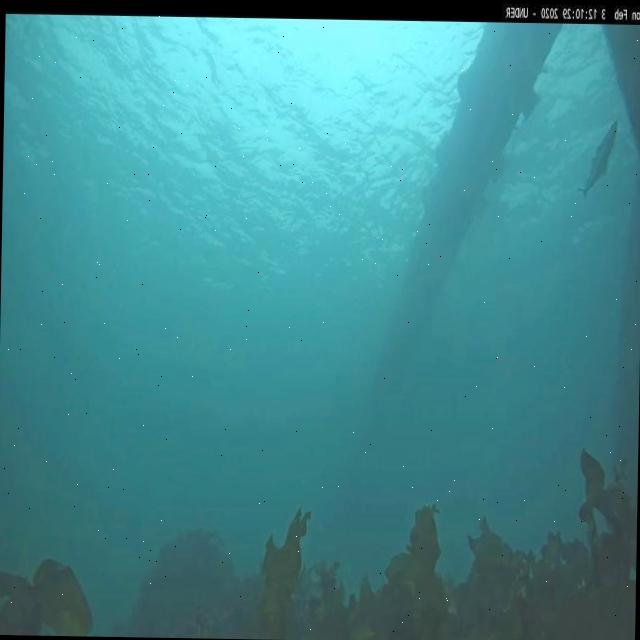fish: (579, 116, 619, 200)
